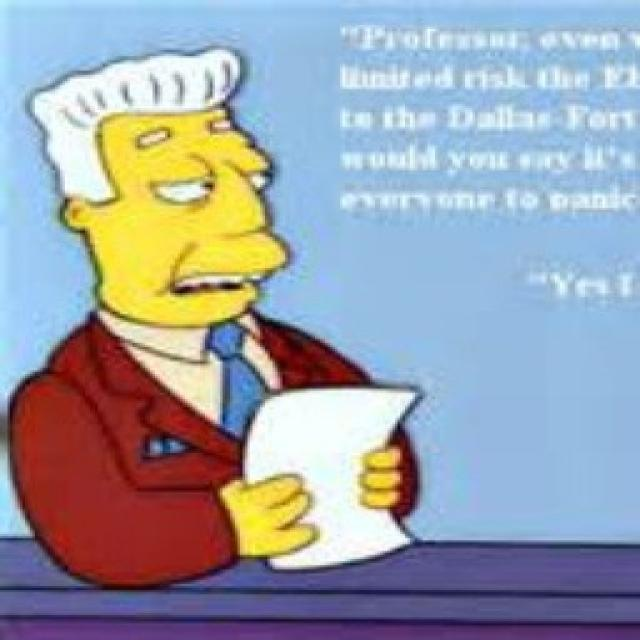Kent Brockman: (21, 43, 304, 334)
